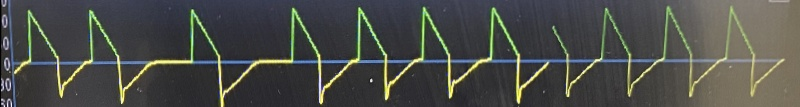normal_flow: (17, 0, 772, 107)
